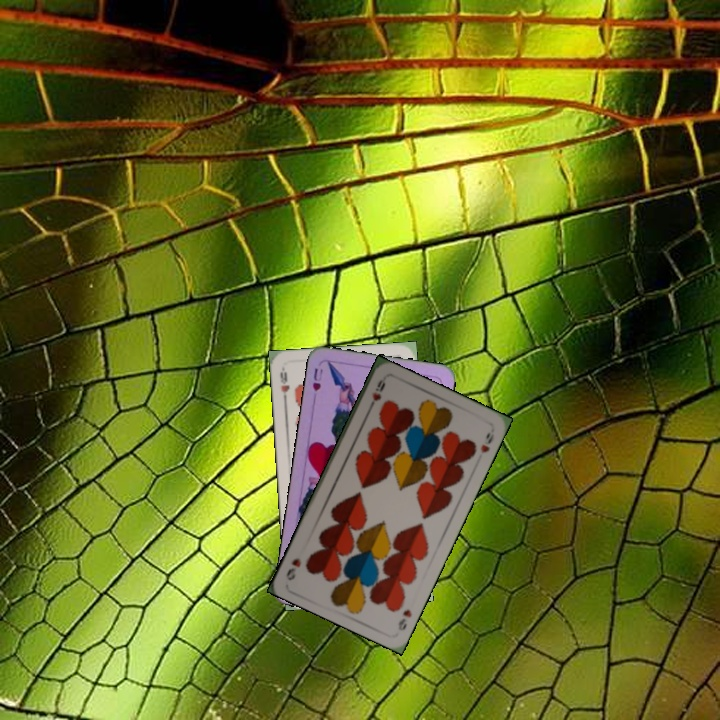H9: (364, 374, 388, 413), (276, 365, 292, 405), (394, 605, 414, 633)
HU: (308, 364, 326, 394)
